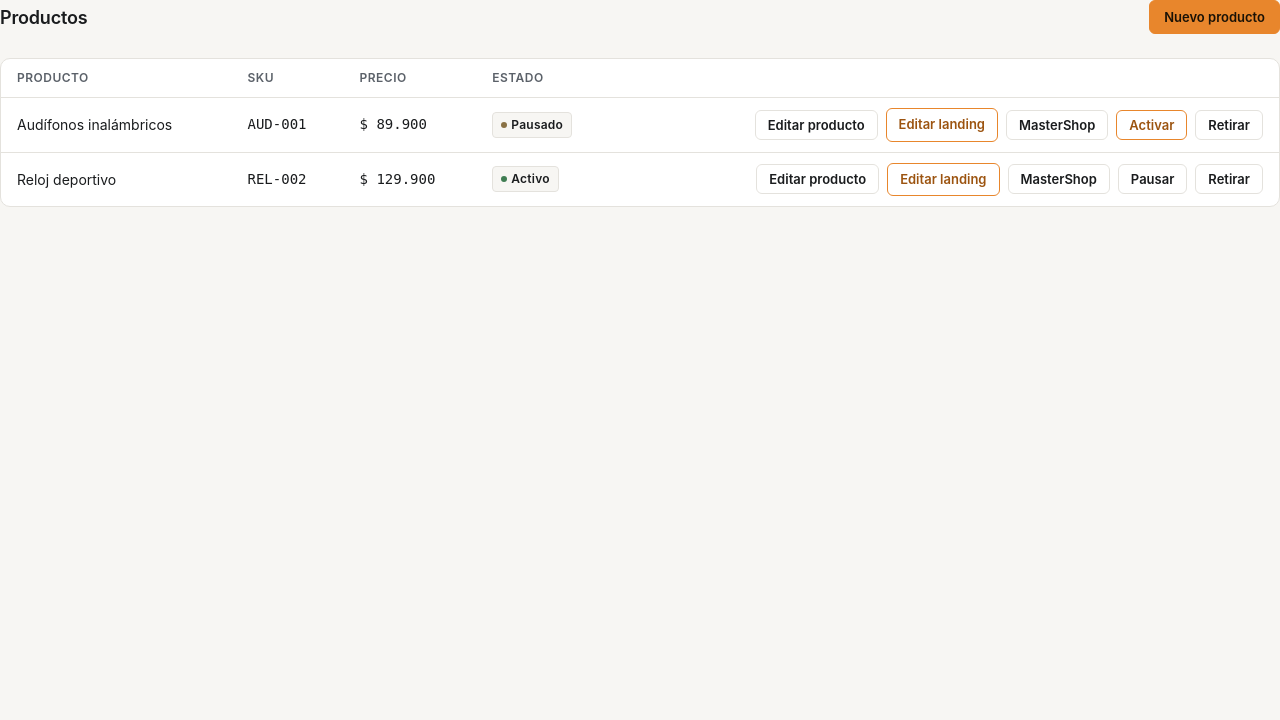
Scenario: ProductsPage › edits a product name and price without replacing the rest of the product
Expected: the text "Audífonos inalámbricos" is shown, x1=1 y1=98 x2=232 y2=152
Click the button named "Editar producto Audífonos inalámbricos" at point(816, 125), box x1=755 y1=110 x2=878 y2=140
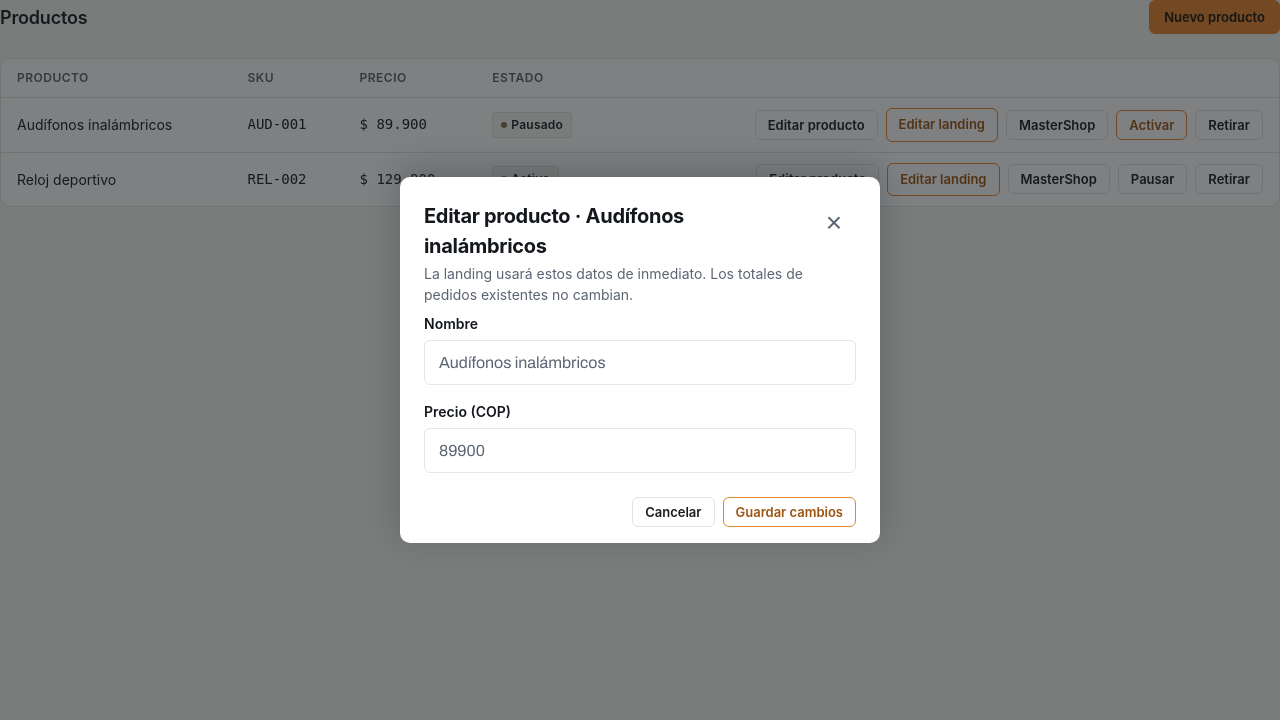
Replace the text in the field labelled "Nombre" with "Audífonos Pro" at point(640, 362), box x1=424 y1=340 x2=856 y2=385
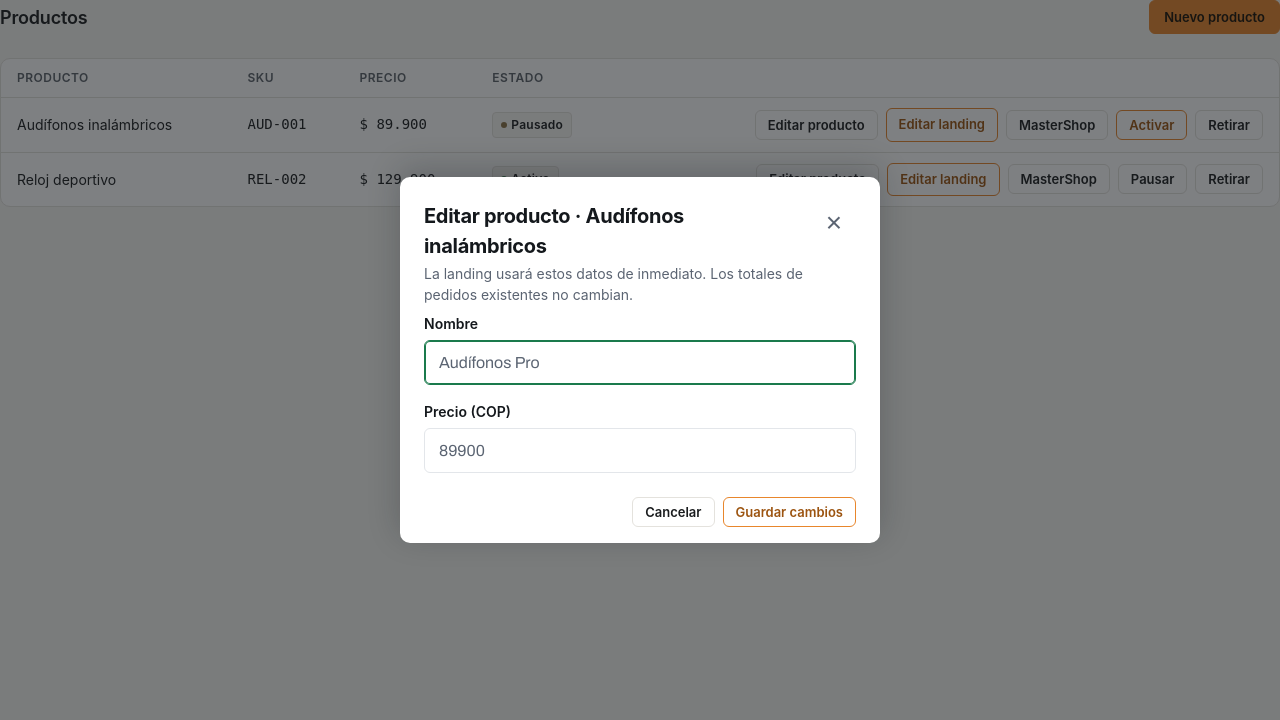
Replace the text in the number field labelled "Precio (COP)" with "99900" at point(640, 450), box x1=424 y1=428 x2=856 y2=473
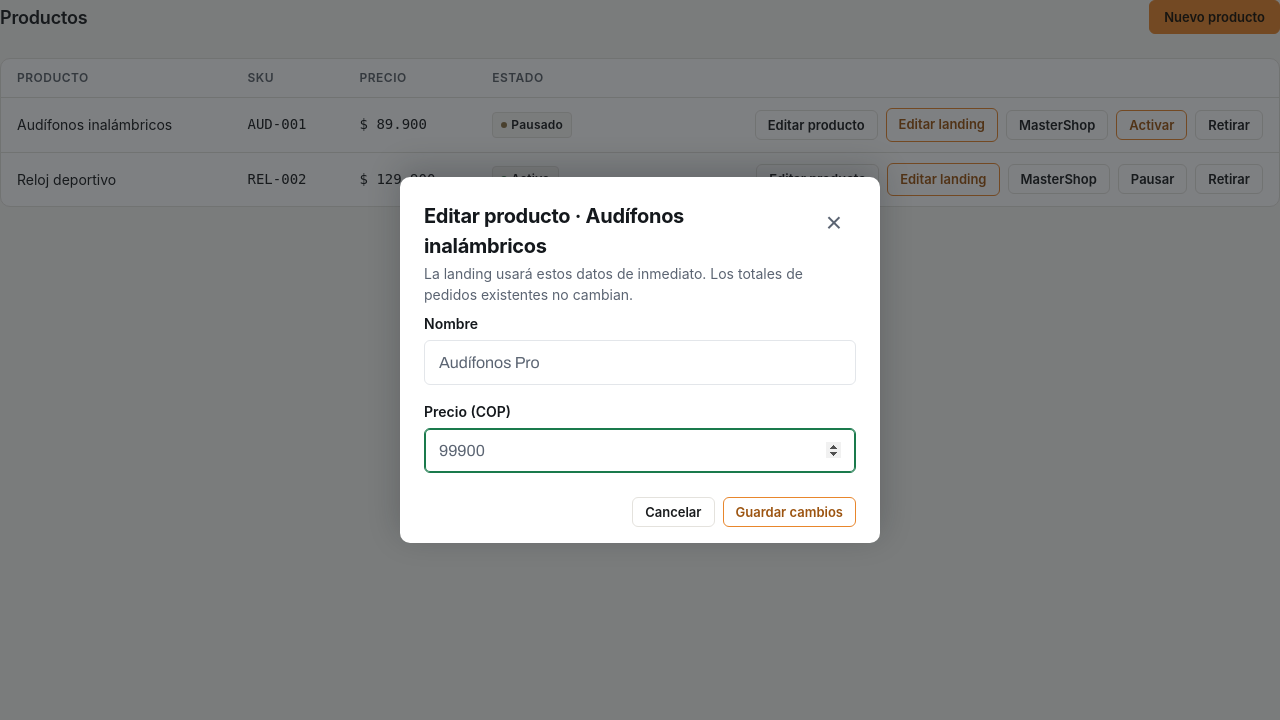
Click the button "Guardar cambios" at point(789, 512), box x1=722 y1=497 x2=856 y2=527
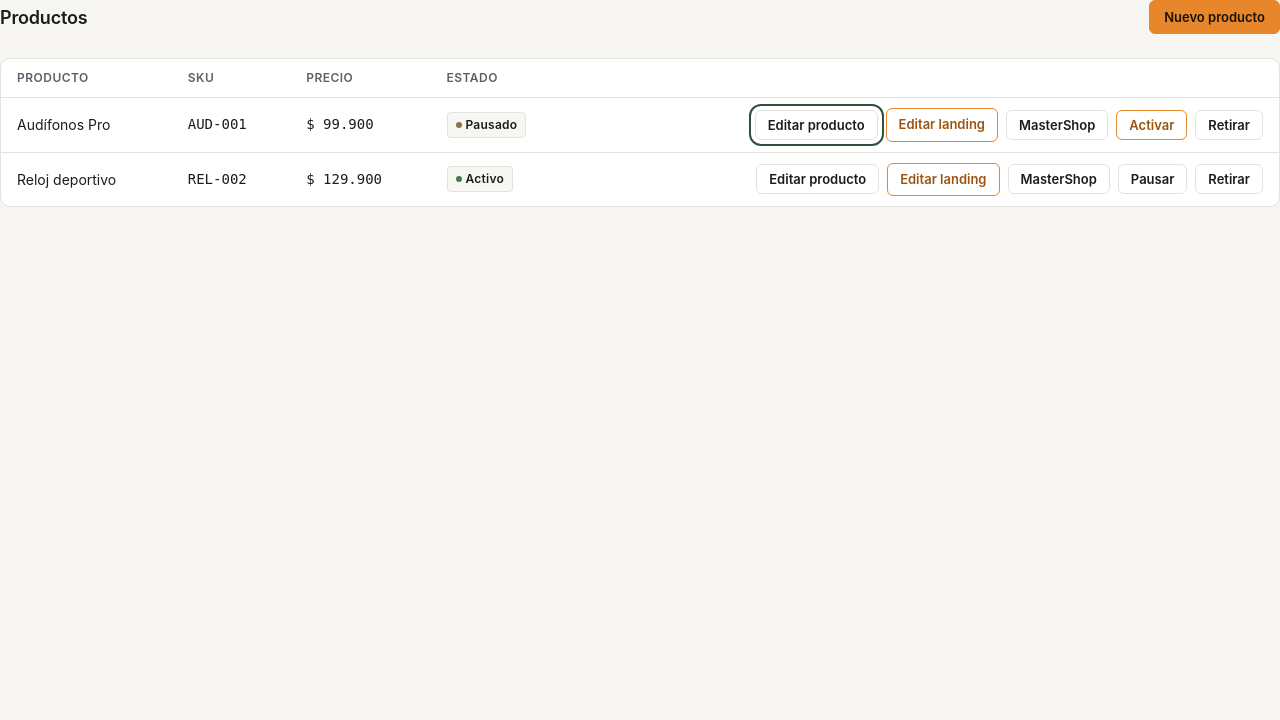
Expected: the text "AUD-001" is shown, x1=172 y1=98 x2=290 y2=152
Expected: the text "Audífonos Pro" is shown, x1=1 y1=98 x2=172 y2=152
Expected: the text "$ 99.900" is shown, x1=290 y1=98 x2=430 y2=152
